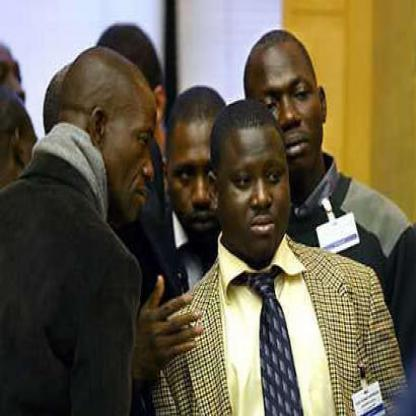face: (219, 104, 292, 265), (249, 31, 323, 182), (170, 94, 236, 250)
